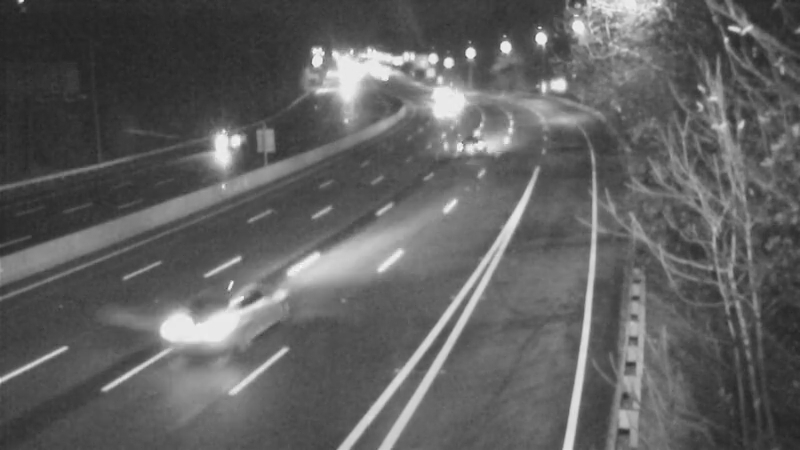vehicle: (156, 278, 266, 388), (413, 66, 463, 116), (429, 74, 479, 124), (416, 82, 466, 132), (439, 123, 489, 173), (206, 120, 256, 170)
